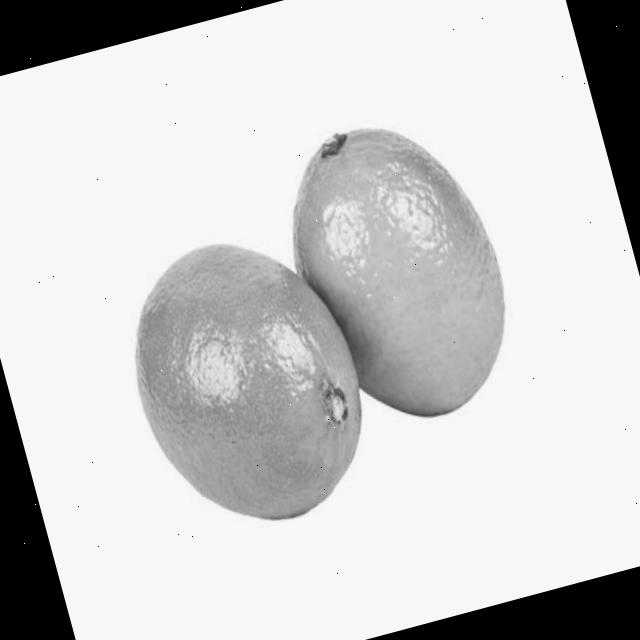Unripe: (105, 215, 388, 548), (262, 98, 532, 440)
